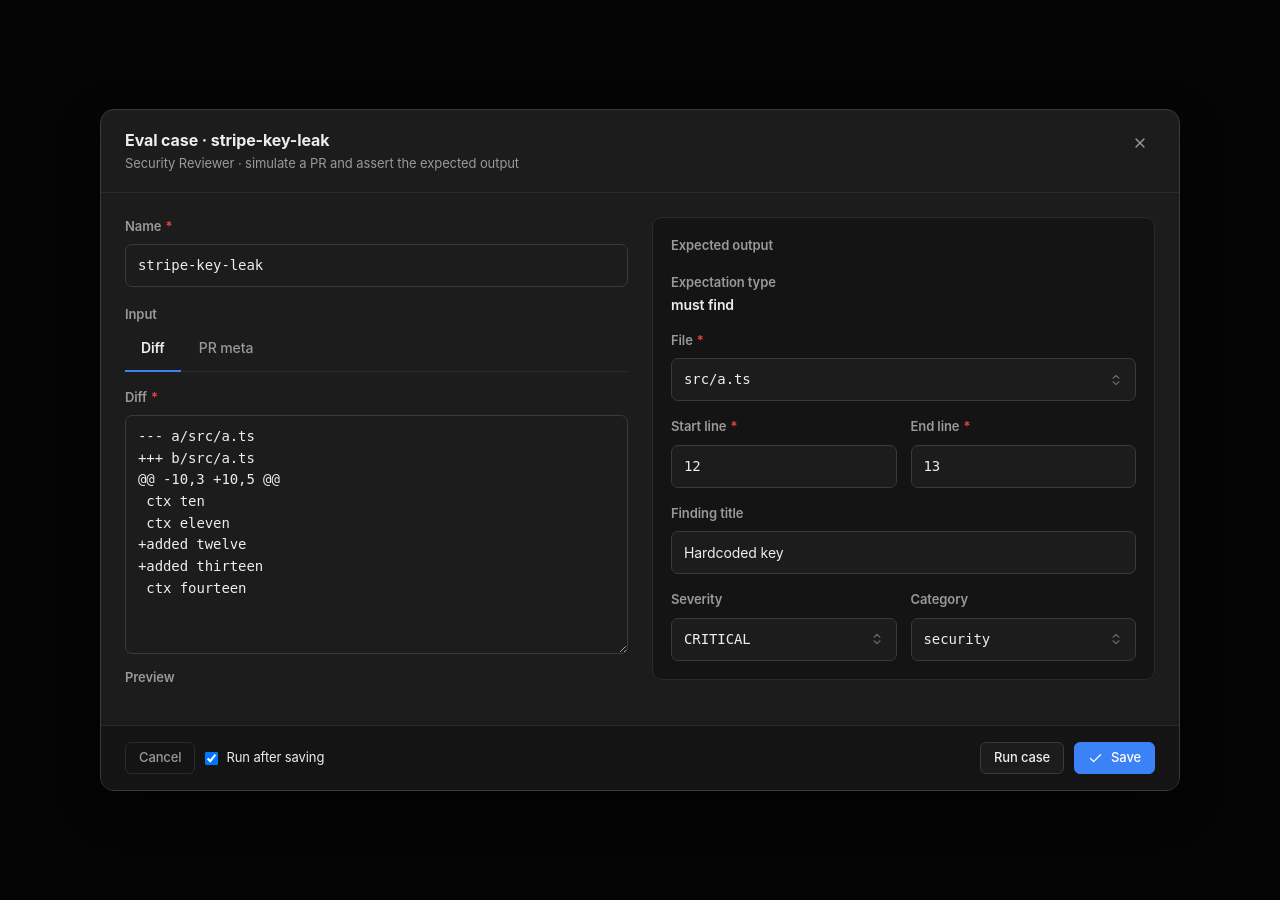
it: CaseEditorDialog — Run case › marks the result stale after a body edit but not after a rename
Click the button "Run case".
click(1022, 758)  # box [980,742,1064,774]
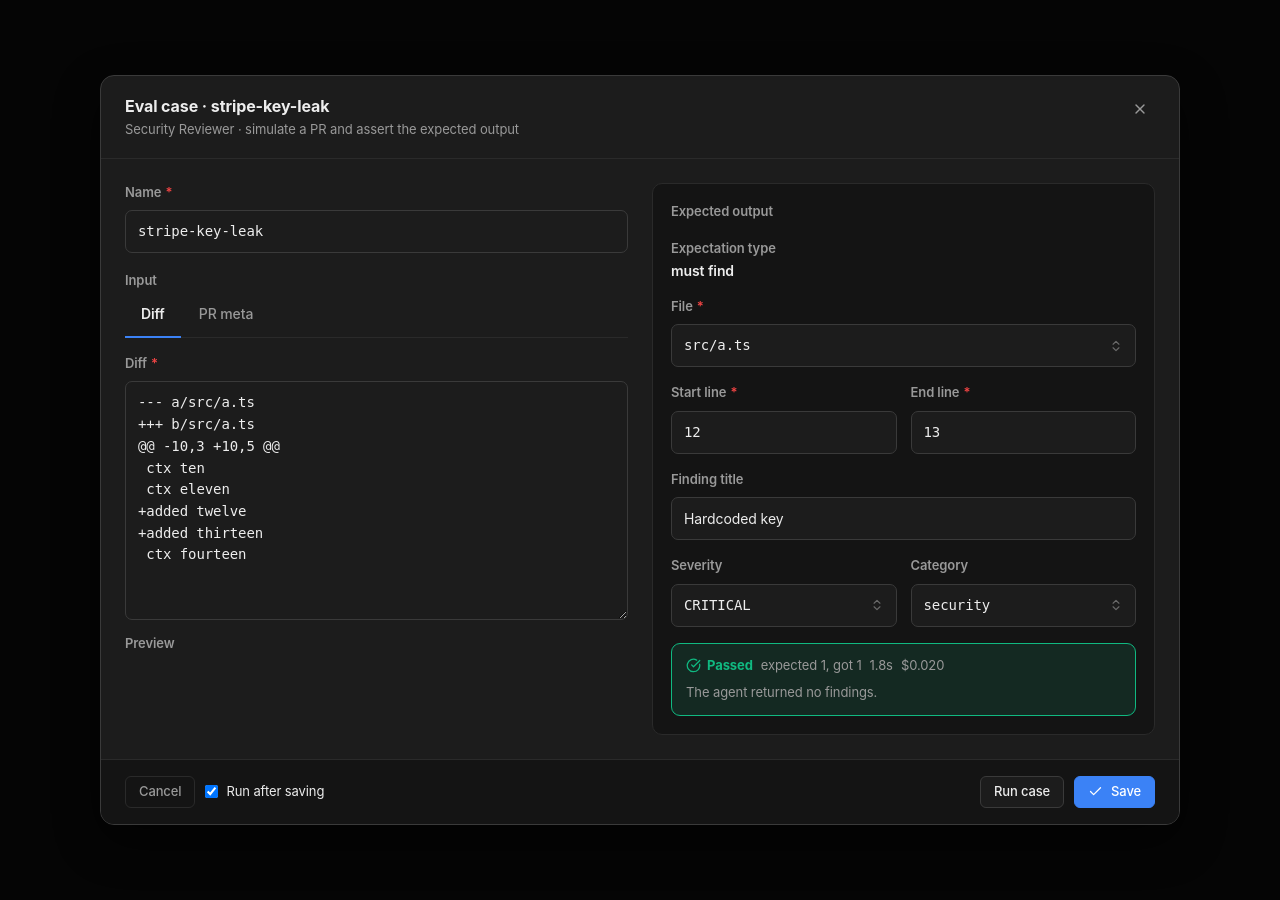
expect the text "Passed" is shown: met, box [686,656,753,676]
Type "renamed" into the field labelled "Name*".
click(376, 232); type("renamed")  # box [138,222,615,242]
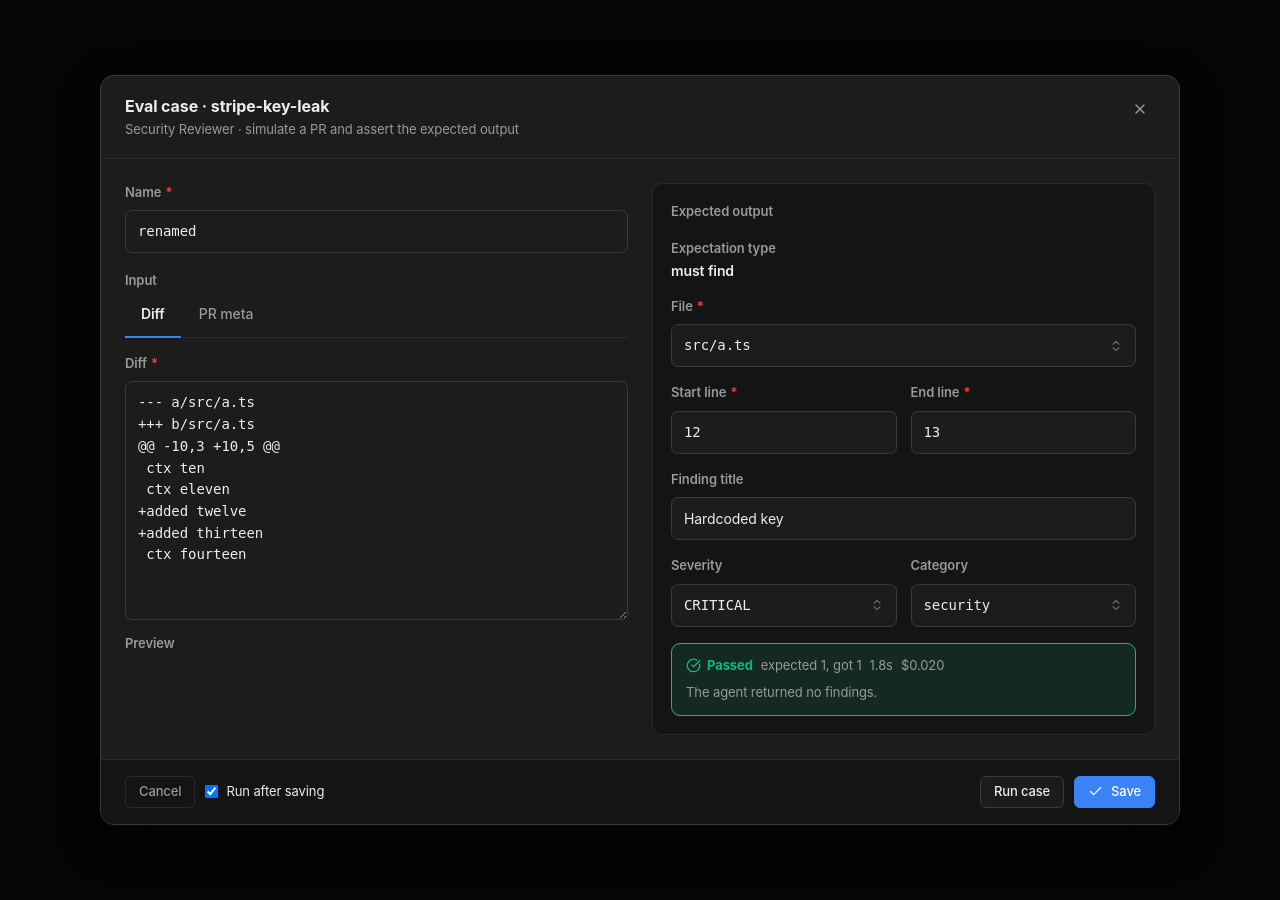
expect the text "earlier content" is not shown: met
Replace the text in the number field labelled "End line*" with "12" at [1023, 432], box [924,422,1123,443]
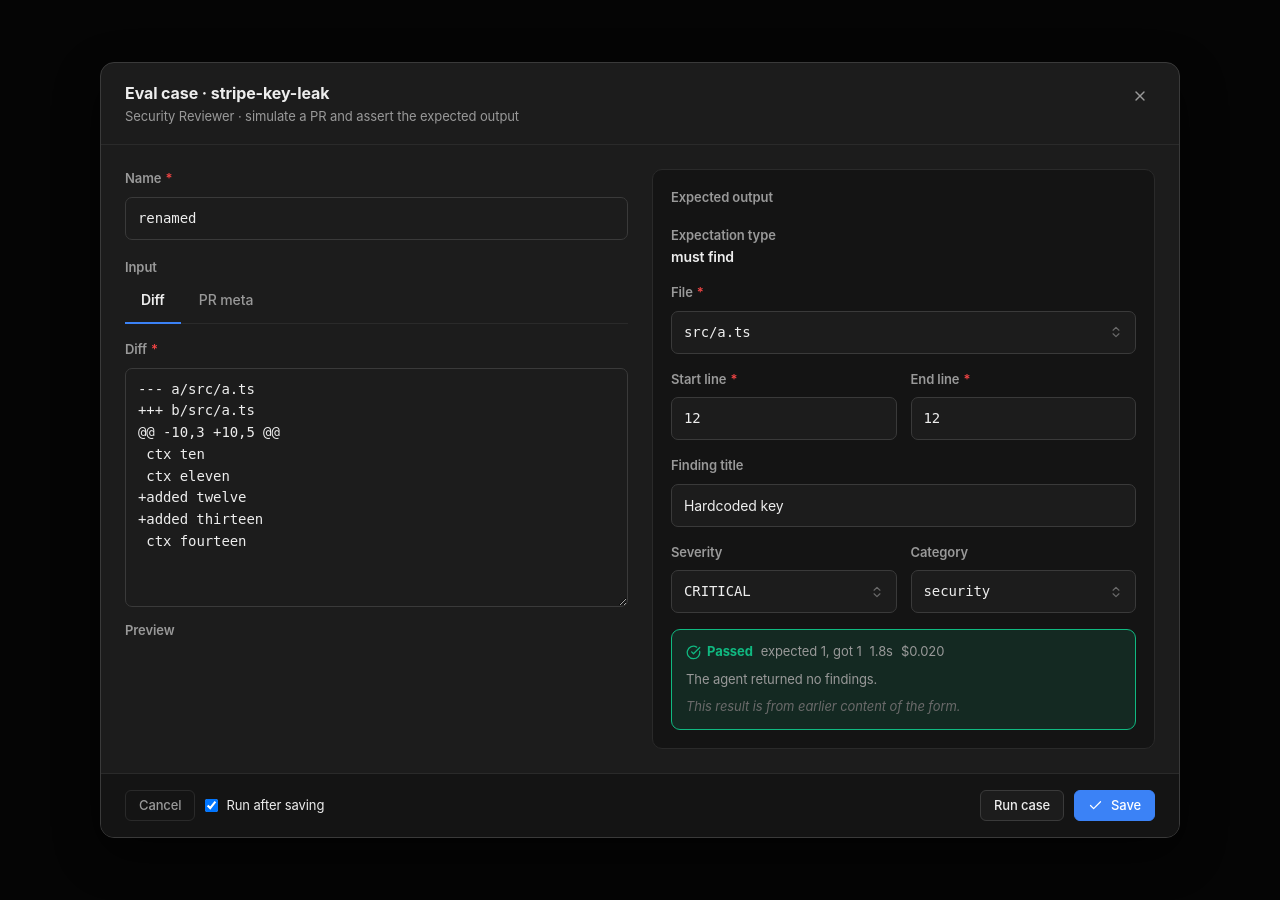
expect the text "This result is from earlier content of the form." is shown: met, box [686,698,960,714]
Replace the text in the number field labelled "End line*" with "13" at [1023, 419], box [924,408,1123,429]
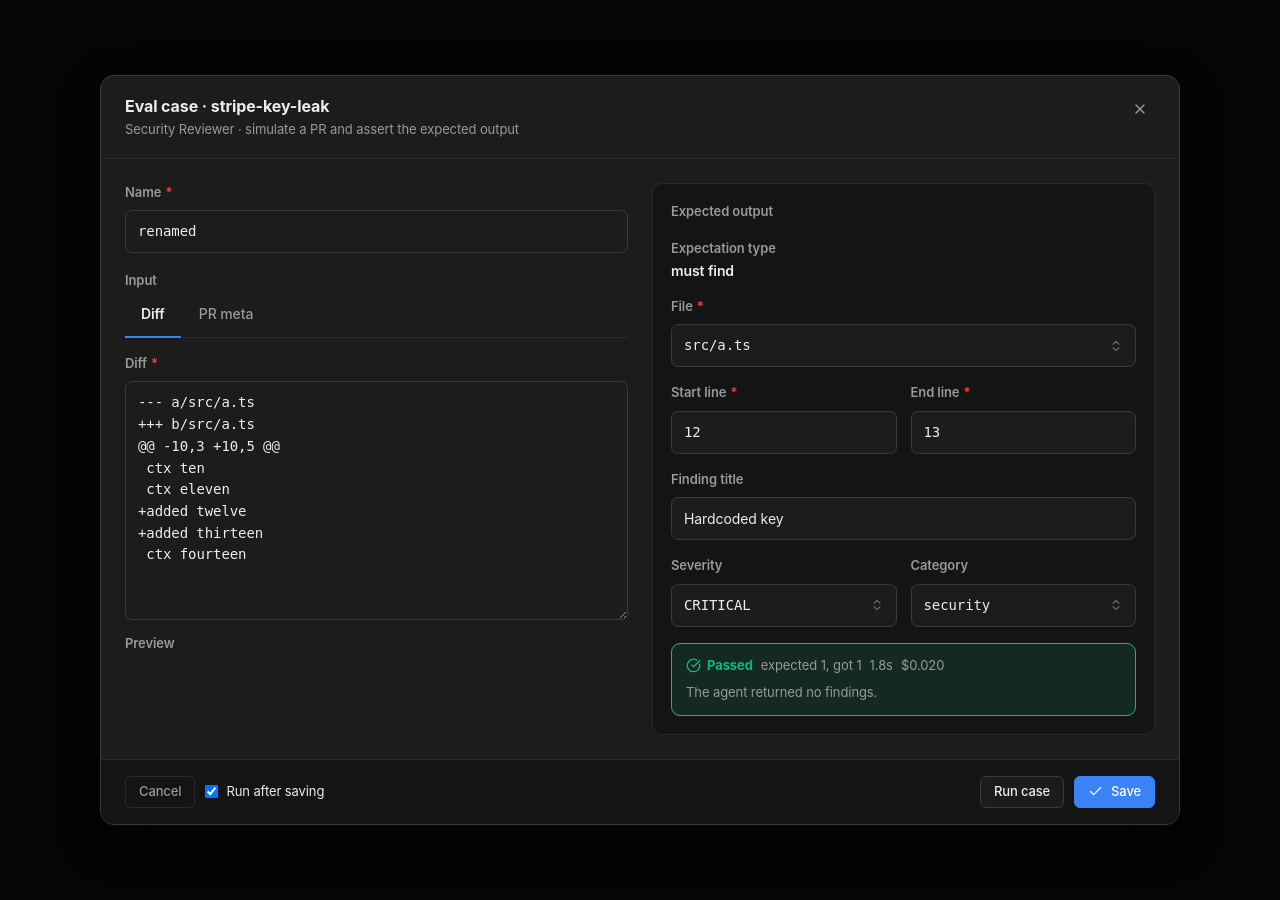
expect the text "earlier content" is gone: met
